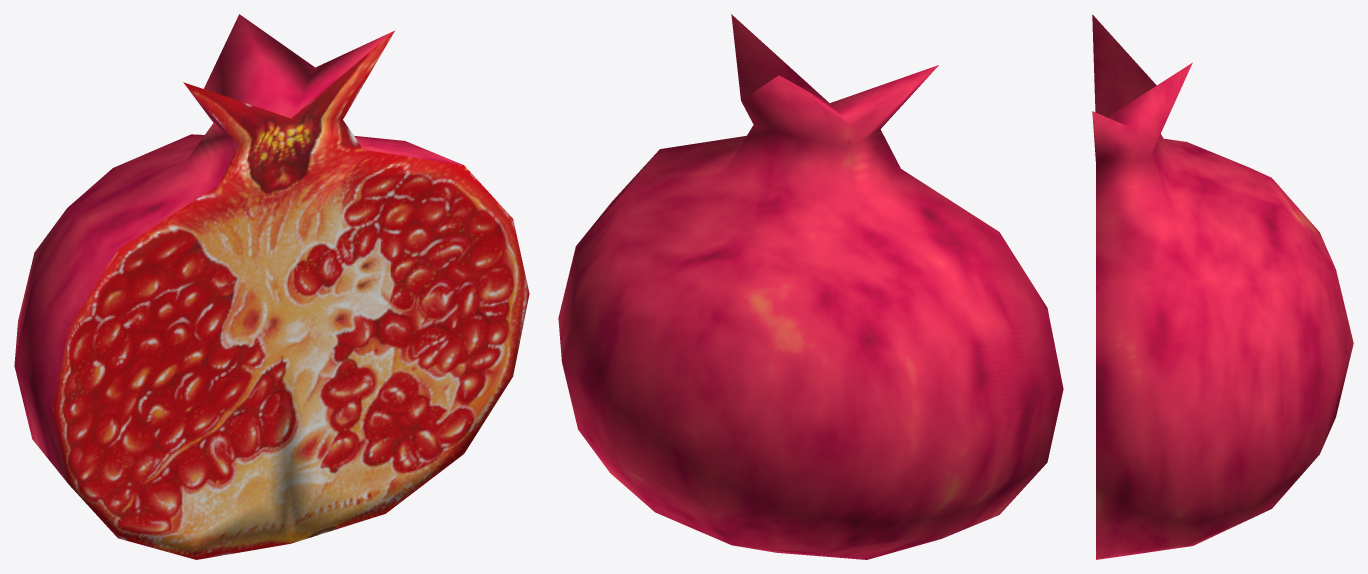
Rendered from grenade-semi.fbx.
3 renders of one model, left to right at view 1: azimuth 30°, elevation 25°; view 2: azimuth 150°, elevation 25°; view 3: azimuth 270°, elevation 25°, orthographic. The views are drawn at different scales.
Parts seen in each view (by area): view 1: Grenade-semi.001; view 2: Grenade-semi.001; view 3: Grenade-semi.001.
Boxes of the visible parts, box(x1,y1,x2,y2) form: Grenade-semi.001: box(14, 14, 529, 559); Grenade-semi.001: box(558, 14, 1063, 559); Grenade-semi.001: box(1092, 14, 1353, 559).
Bounding box in the file's own units: 211 × 208 × 107.
Materials: 1 (1 with a texture image).
